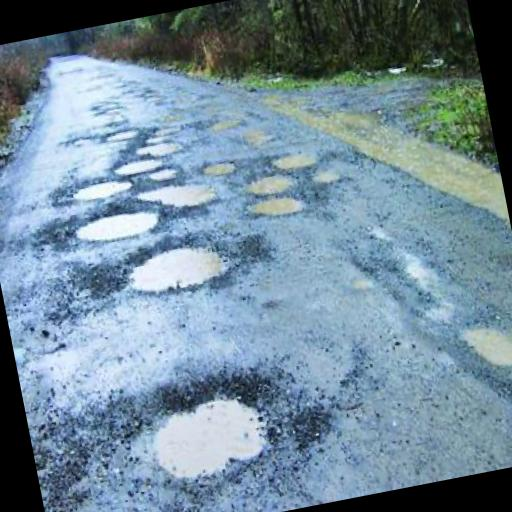pothole: (141, 363, 291, 490), (122, 234, 234, 299), (70, 204, 166, 246), (458, 310, 512, 372), (245, 187, 311, 223), (71, 172, 137, 204), (111, 152, 168, 179), (248, 168, 296, 198), (134, 136, 186, 160), (272, 146, 320, 170), (200, 156, 240, 178), (309, 163, 343, 184), (106, 124, 140, 144)
